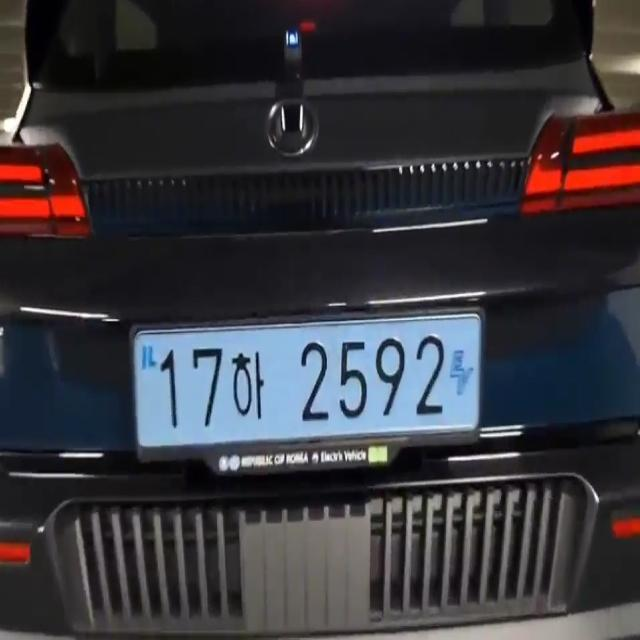car: (132, 317, 482, 456)
carev: (442, 314, 475, 426), (136, 334, 158, 450)
